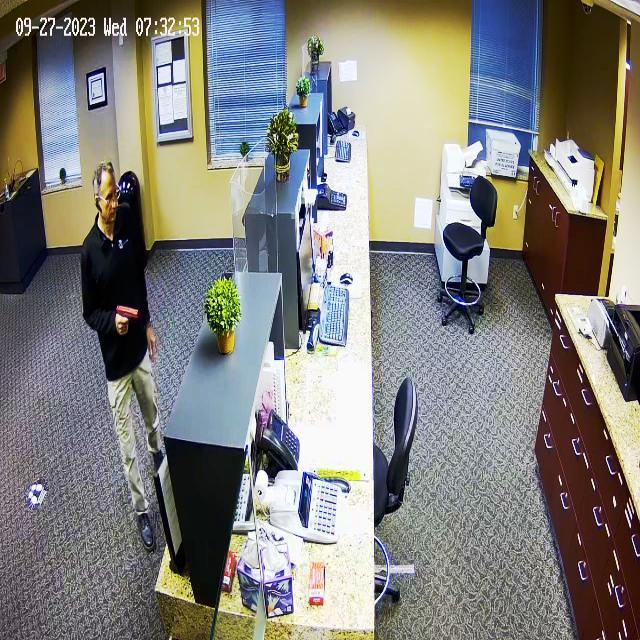Gun: (106, 298, 146, 338)
